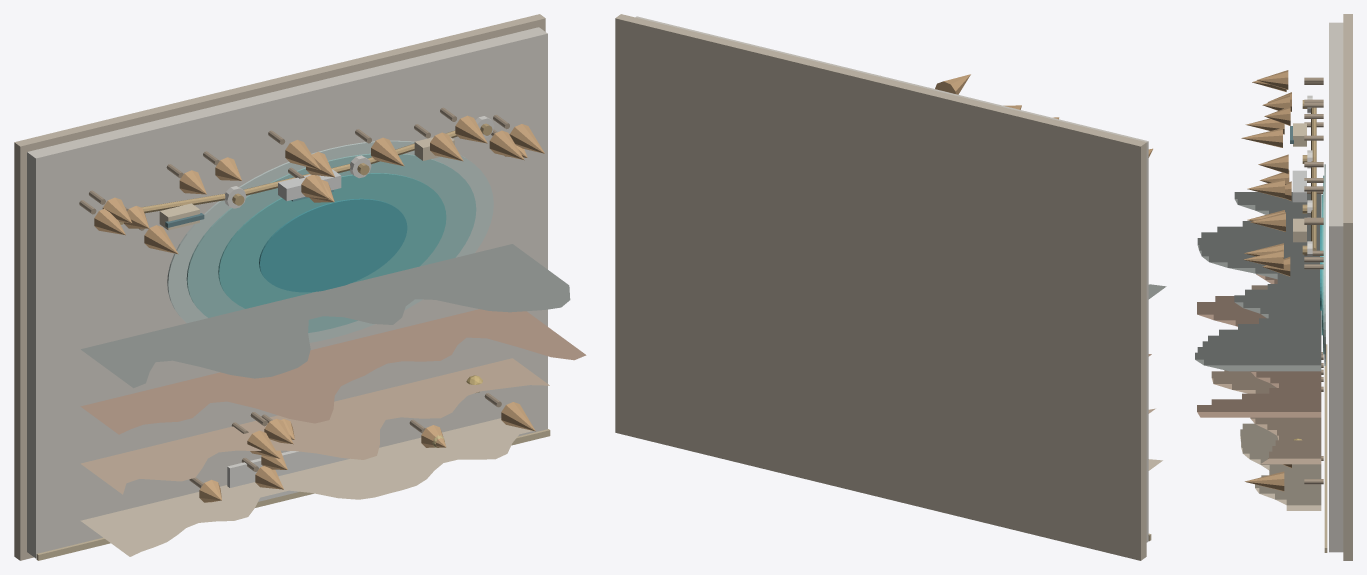
File: autumn.glb
3 views of the same model, side by side, from view 1: azimuth 30°, elevation 25°; view 2: azimuth 150°, elevation 25°; view 3: azimuth 270°, elevation 25° (orthographic). The views are drawn at different scales.
Visible parts, largest first — view 1: part_000, part_009, part_008, part_007, part_006, part_001, part_004, part_005, part_003, part_002, part_083, part_010 (+1 smaller); view 2: part_001, part_000; view 3: part_009, part_000, part_001, part_008, part_007, part_006, part_010, part_080, part_066, part_026, part_019, part_057 (+14 smaller).
Part boxes in pixels (x1,y1,x2,y2): part_000: (27,27,547,558); part_009: (81,244,570,388); part_008: (80,309,586,434); part_007: (81,358,549,494); part_006: (80,418,532,556); part_001: (14,14,545,560); part_004: (218,173,446,308); part_005: (259,198,407,292); part_003: (186,153,476,332); part_002: (167,140,493,342); part_083: (227,451,349,501); part_010: (36,429,550,560); part_001: (615,14,1146,560); part_000: (635,16,1148,542); part_009: (1195,192,1321,371); part_000: (1329,22,1343,552); part_001: (1343,14,1352,560); part_008: (1197,274,1321,417); part_007: (1211,285,1321,464); part_006: (1240,423,1321,510); part_010: (1324,344,1327,552); part_080: (1292,170,1306,202); part_066: (1241,128,1282,147); part_026: (1245,471,1284,491); part_019: (1243,249,1283,269); part_057: (1247,179,1284,198).
Bounding box in the file's own units: 2.31 × 1.74 × 0.7371.
